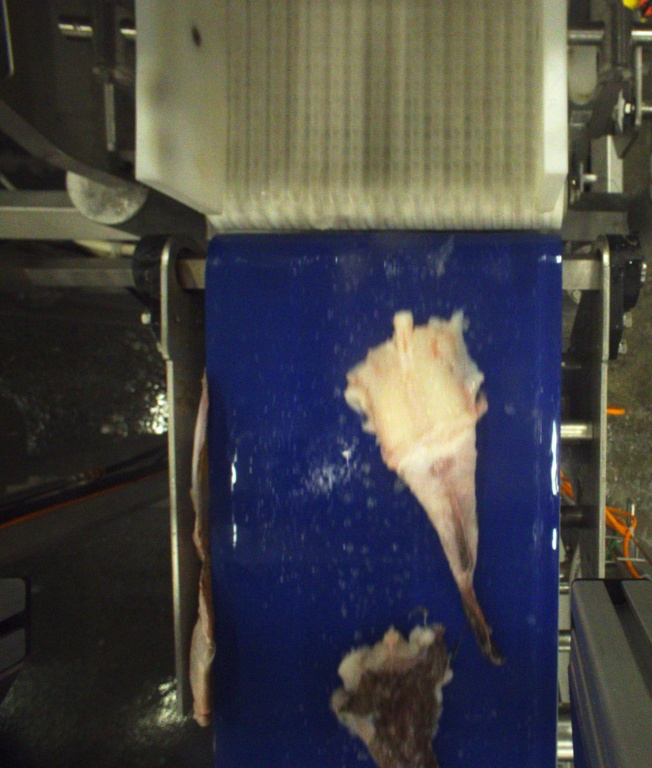ANF: (339, 625, 449, 768)
